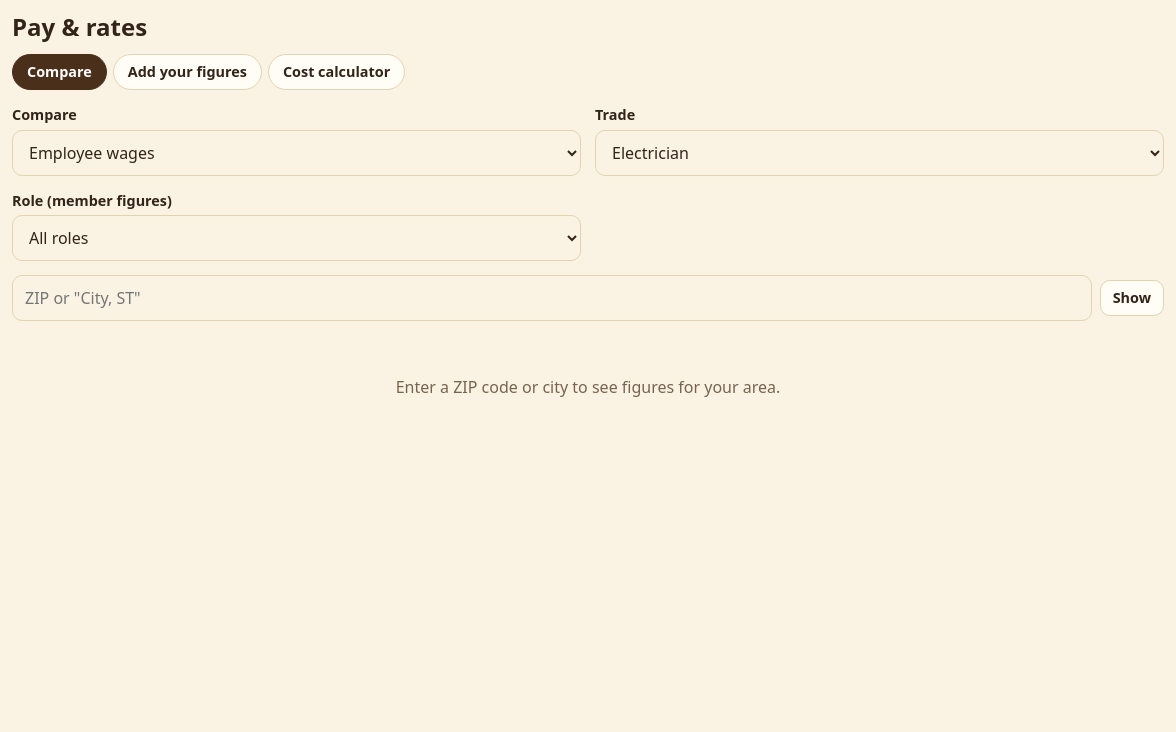
Test: Pay & rates › shows government wages and member figures as separate sections
The image size is (1176, 732).
Type "78701" into the field named "ZIP or City, ST". click: point(552, 298)
box: [12,275,1092,321]
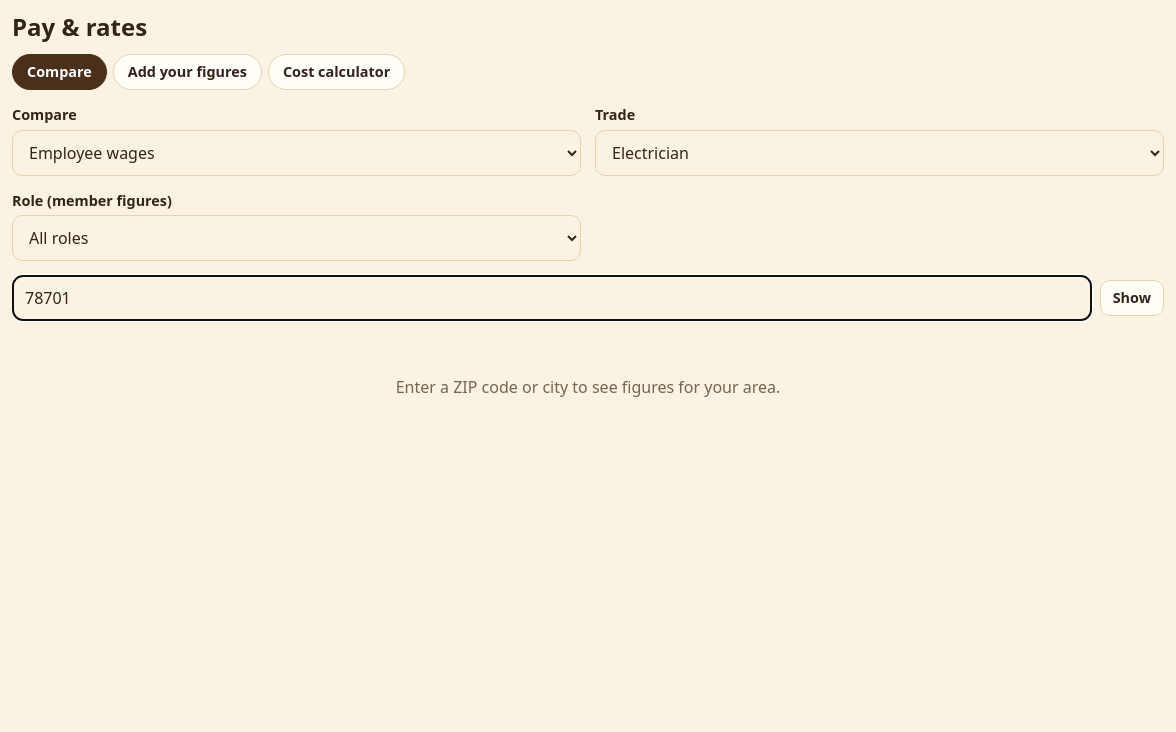
Click the button "Show". click: point(1132, 298)
box: [1100,280,1164,316]
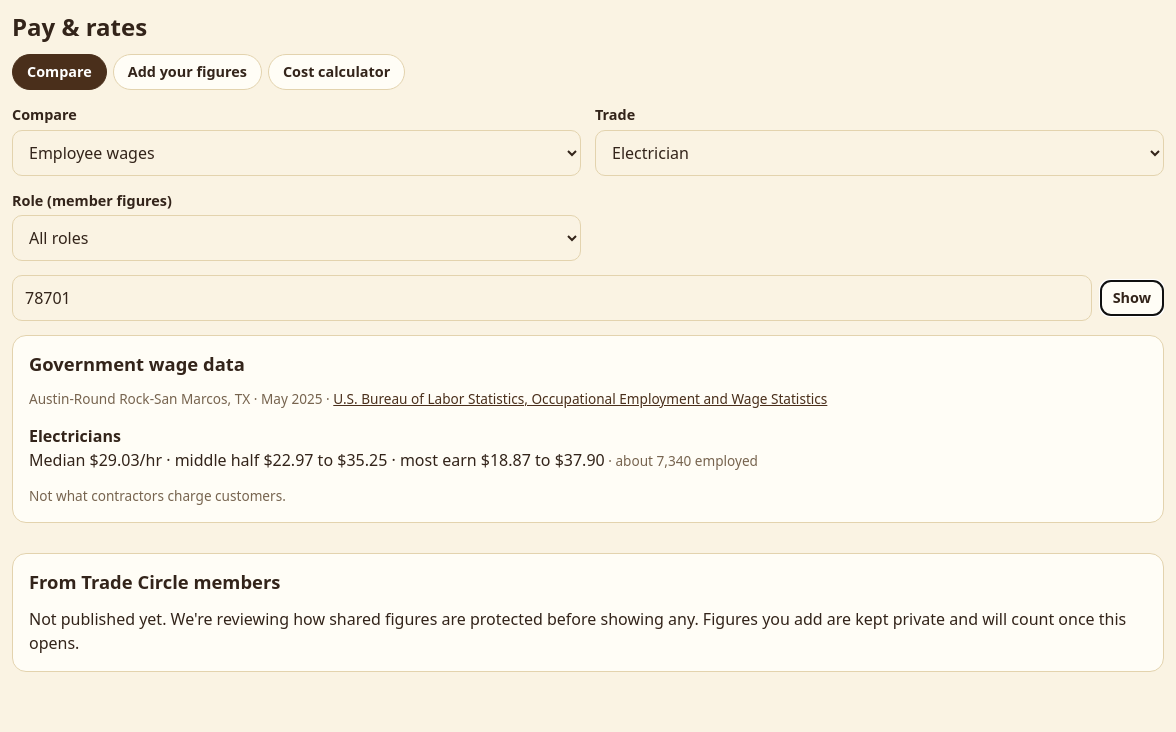
Now the heading "Government wage data" is shown, box [29,351,245,376]
Now the text "Austin-Round Rock-San Marcos, TX · May 2025" is shown, box [29,389,827,408]
Now the list item "Median $29.03/hr · middle half $22.97 to $35.25" is shown, box [29,425,758,471]
